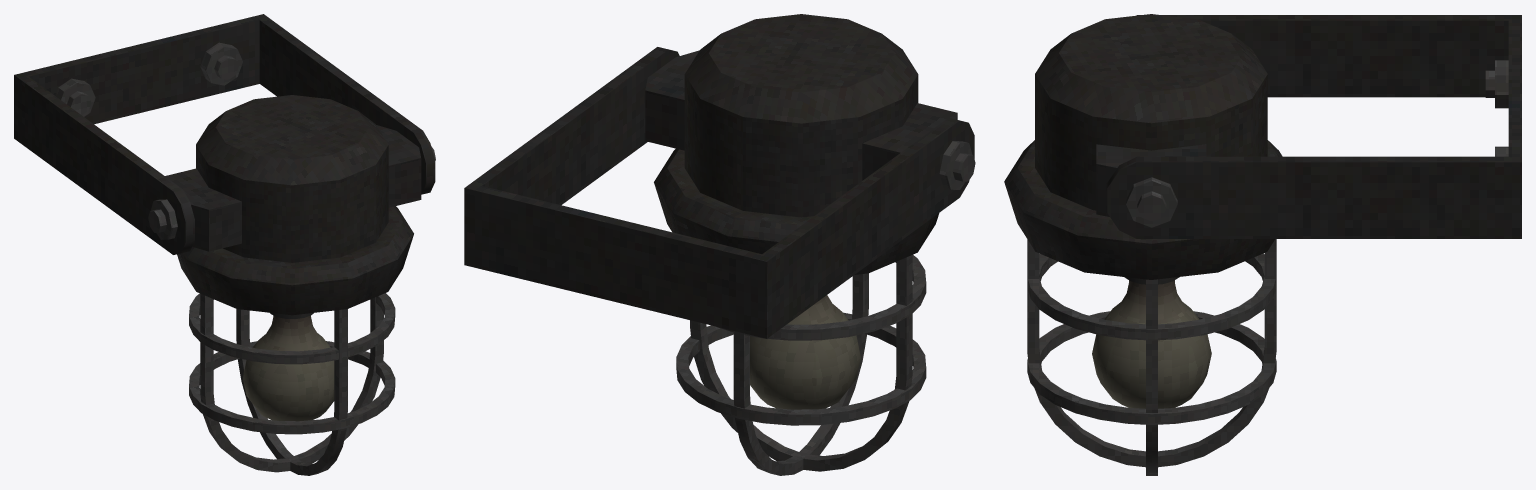
The model's file is lamp_mx_1_a_1_off.glb.
3 views of the same model, side by side, from view 1: azimuth 30°, elevation 25°; view 2: azimuth 150°, elevation 25°; view 3: azimuth 270°, elevation 25° (orthographic). The views are drawn at different scales.
Visible parts, largest first — view 1: lamp_mx_1_a_1_off; view 2: lamp_mx_1_a_1_off; view 3: lamp_mx_1_a_1_off.
Part boxes in pixels (x1=…): lamp_mx_1_a_1_off: x1=14, y1=14, x2=435, y2=475; lamp_mx_1_a_1_off: x1=464, y1=14, x2=975, y2=475; lamp_mx_1_a_1_off: x1=1004, y1=14, x2=1521, y2=475.
Size of the model in its own units: 0.2245 by 0.2657 by 0.3023.
Materials: 3 (3 with a texture image).
